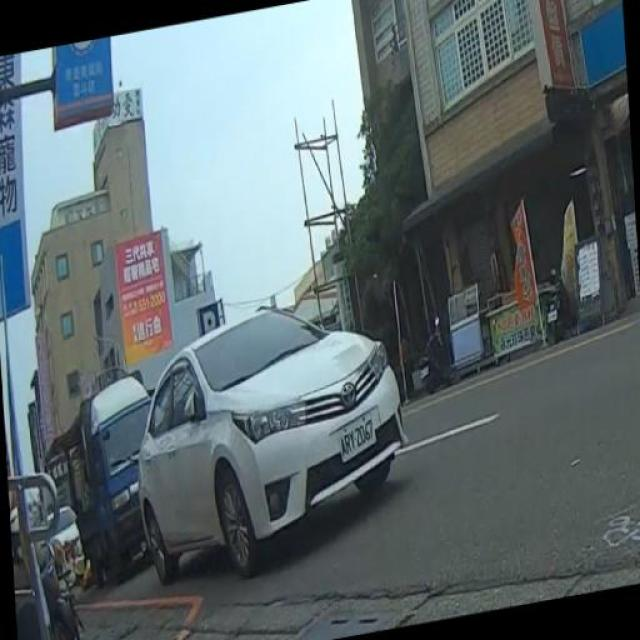Legalparking: (115, 268, 440, 598)
